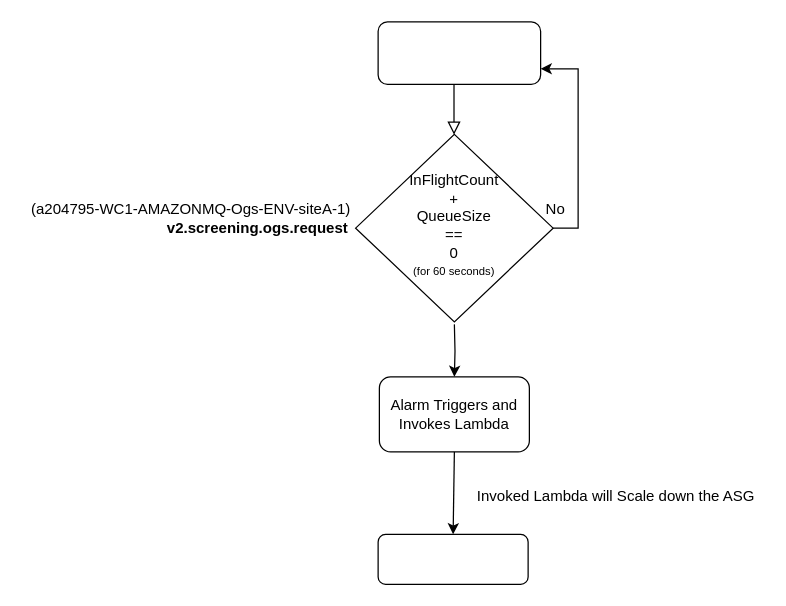
Some shapes in this 786 by 606 pixel diagram are drawn without their labels. Each missing label, with the centre of its shape:
Scale Down State: the point at 452,558
Scaled Out State: the point at 459,52
